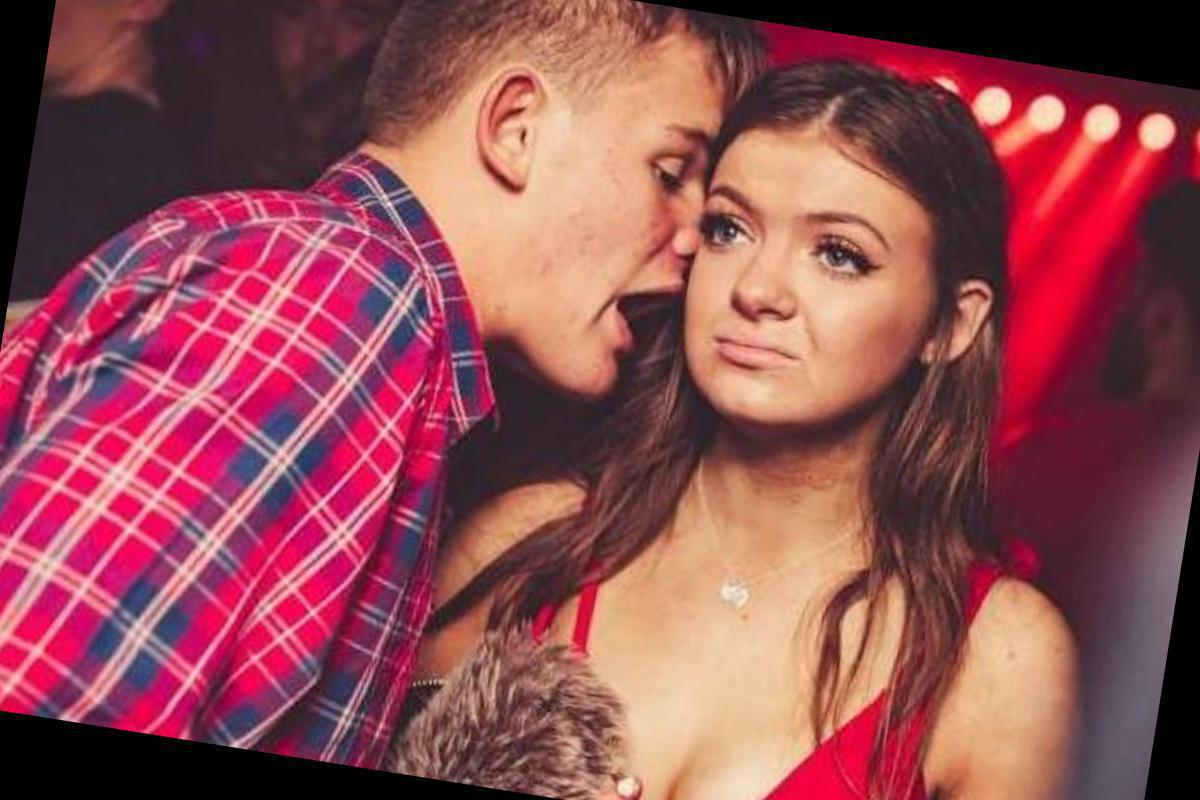Drunk: (697, 139, 909, 423)
